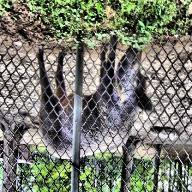boar: (55, 48, 161, 163)
